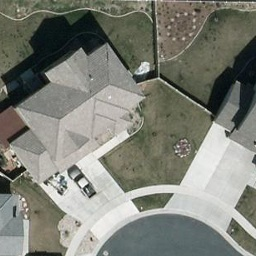car: (66, 165, 100, 199)
